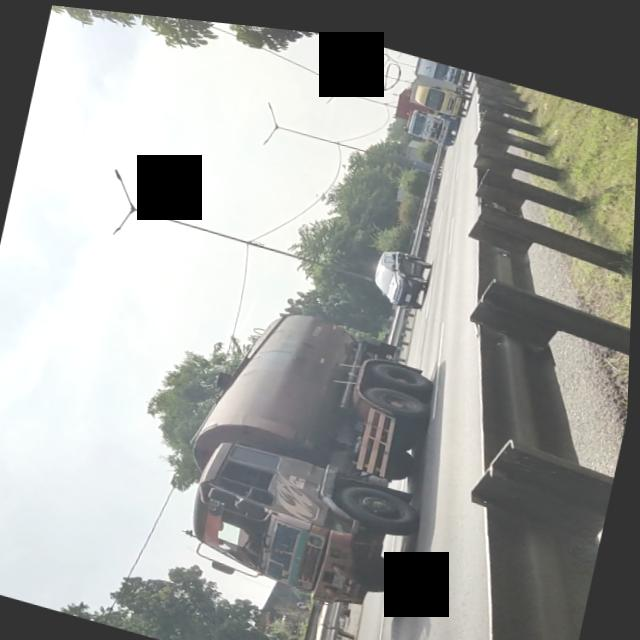Golongan I: (366, 231, 441, 307)
Golongan III: (167, 280, 467, 616)
